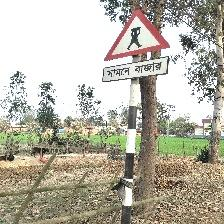Market-in-front: (102, 8, 171, 84)
